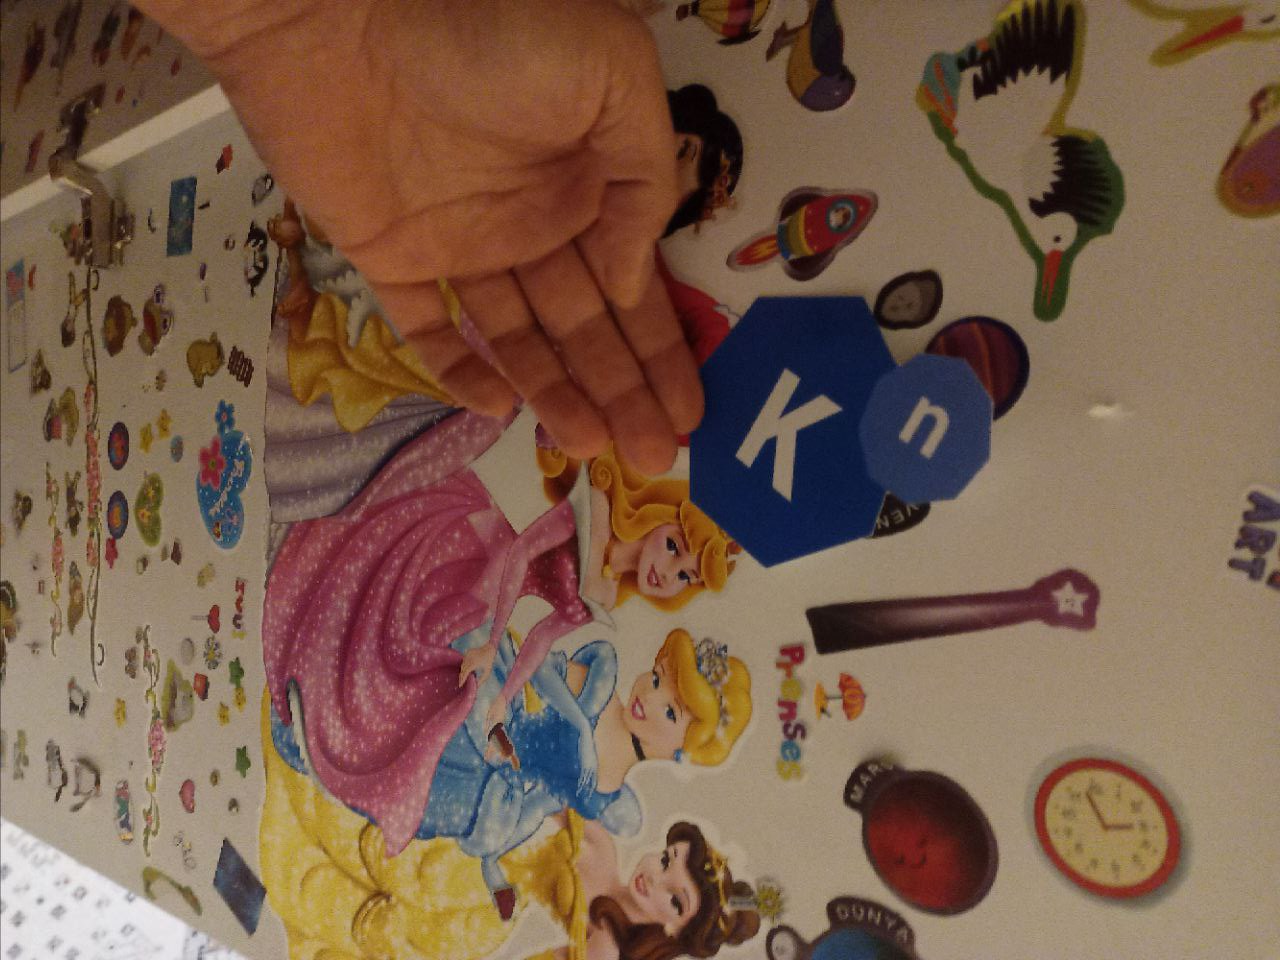knative: (688, 294, 991, 569)
